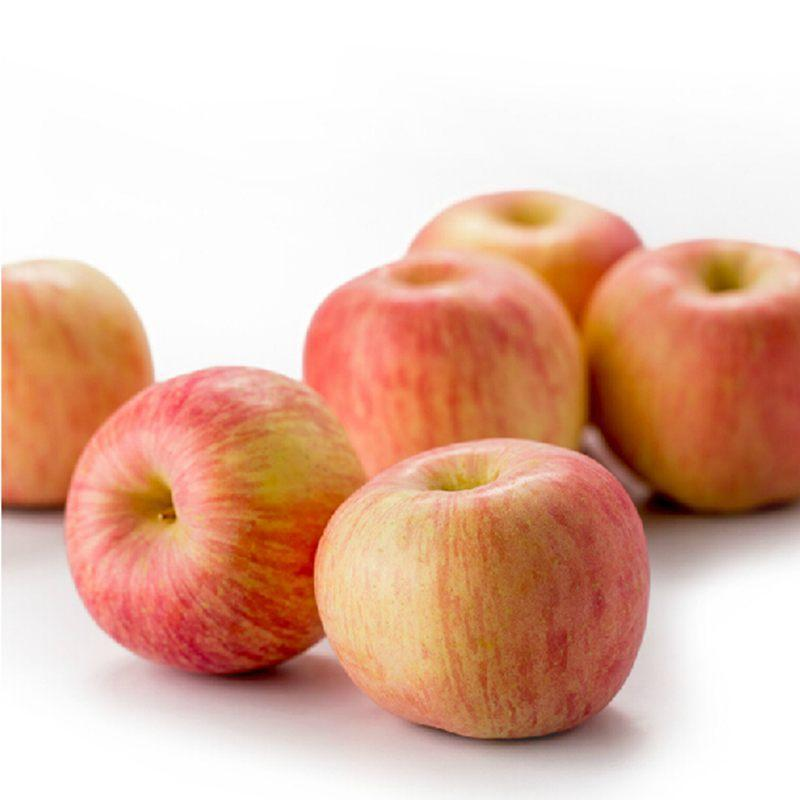apple: (309, 440, 648, 736), (69, 362, 369, 681), (298, 247, 587, 480), (576, 235, 800, 517), (1, 253, 159, 507)
